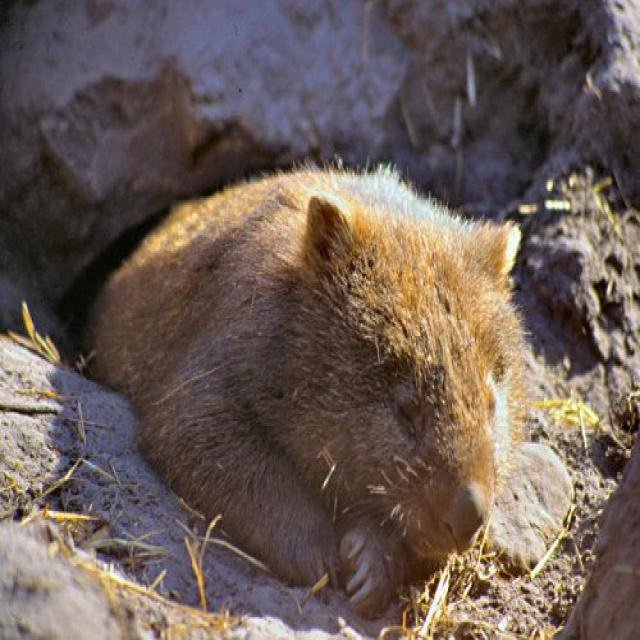Wombat: (89, 162, 524, 612)
